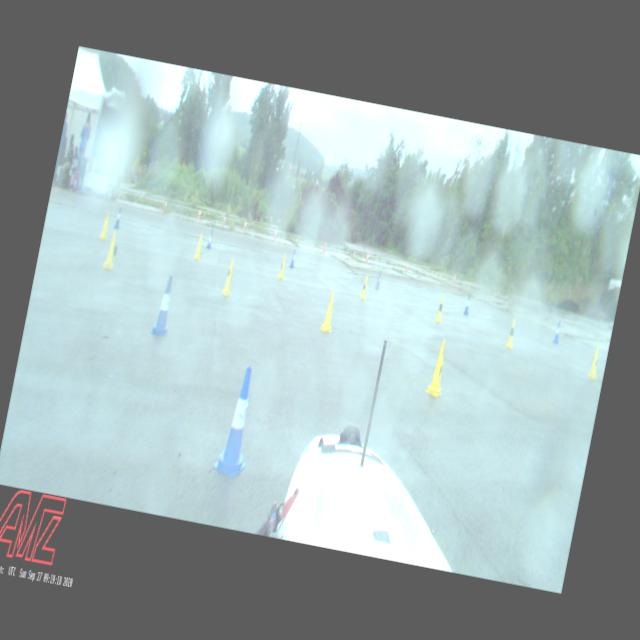blue_cone: (212, 364, 264, 479), (151, 274, 177, 336), (552, 320, 562, 344), (113, 207, 123, 229), (206, 229, 215, 249), (463, 295, 471, 315), (374, 270, 382, 290), (289, 250, 296, 268)
orange_cone: (222, 214, 228, 225), (322, 241, 328, 252), (405, 260, 410, 272), (274, 227, 278, 240), (197, 208, 202, 218), (452, 274, 457, 284), (366, 252, 370, 263), (243, 220, 247, 230)
yellow_cone: (426, 338, 452, 398), (320, 290, 340, 332), (102, 232, 120, 269), (586, 346, 602, 381), (222, 260, 236, 296), (506, 319, 518, 349), (100, 212, 112, 240), (434, 295, 446, 322), (277, 254, 288, 280), (360, 275, 370, 299), (194, 236, 204, 258)
